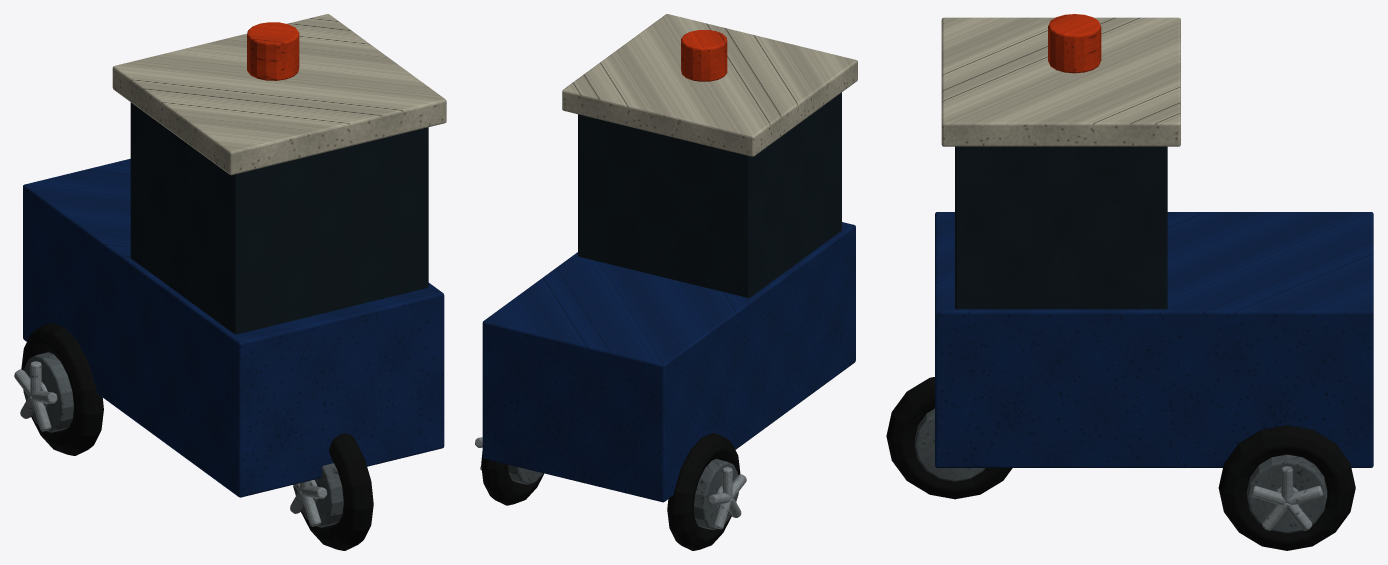
Rendered from PROP-A2548A127159_lod0.glb.
3 renders of one model, left to right at view 1: azimuth 30°, elevation 25°; view 2: azimuth 150°, elevation 25°; view 3: azimuth 270°, elevation 25°, orthographic. The views are drawn at different scales.
Visible parts, largest first — view 1: trike_body, trike_cabin, trike_roof, tire, rim, amber_beacon, rim_spokes; view 2: trike_body, trike_cabin, trike_roof, tire, amber_beacon, rim, rim_spokes; view 3: trike_body, trike_cabin, trike_roof, tire, rim, amber_beacon, rim_spokes.
Part boxes in pixels (bbox=[...]): trike_body: bbox=[23, 158, 444, 497]; trike_cabin: bbox=[130, 102, 428, 334]; trike_roof: bbox=[112, 14, 446, 175]; tire: bbox=[21, 322, 373, 550]; rim: bbox=[24, 352, 343, 527]; amber_beacon: bbox=[247, 22, 299, 80]; rim_spokes: bbox=[14, 361, 327, 526]; trike_body: bbox=[482, 222, 855, 502]; trike_cabin: bbox=[578, 92, 841, 297]; trike_roof: bbox=[562, 14, 857, 156]; tire: bbox=[481, 433, 740, 550]; amber_beacon: bbox=[681, 30, 727, 81]; rim: bbox=[508, 459, 737, 530]; rim_spokes: bbox=[475, 437, 746, 529]; trike_body: bbox=[935, 212, 1373, 467]; trike_cabin: bbox=[955, 146, 1167, 309]; trike_roof: bbox=[941, 17, 1180, 146]; tire: bbox=[886, 377, 1355, 550]; rim: bbox=[915, 408, 1327, 533]; amber_beacon: bbox=[1048, 14, 1101, 73]; rim_spokes: bbox=[1251, 466, 1323, 530].
Size of the model in its own units: 1.2 by 1.97 by 1.83.
Materials: 7 (7 with a texture image).
